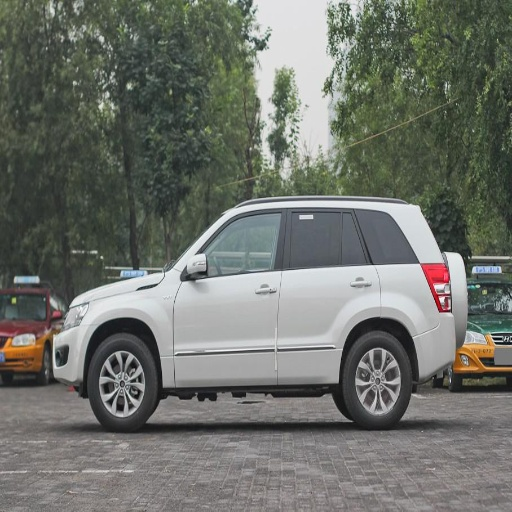back_left_door: (278, 205, 379, 378)
front_left_door: (173, 206, 286, 380)
